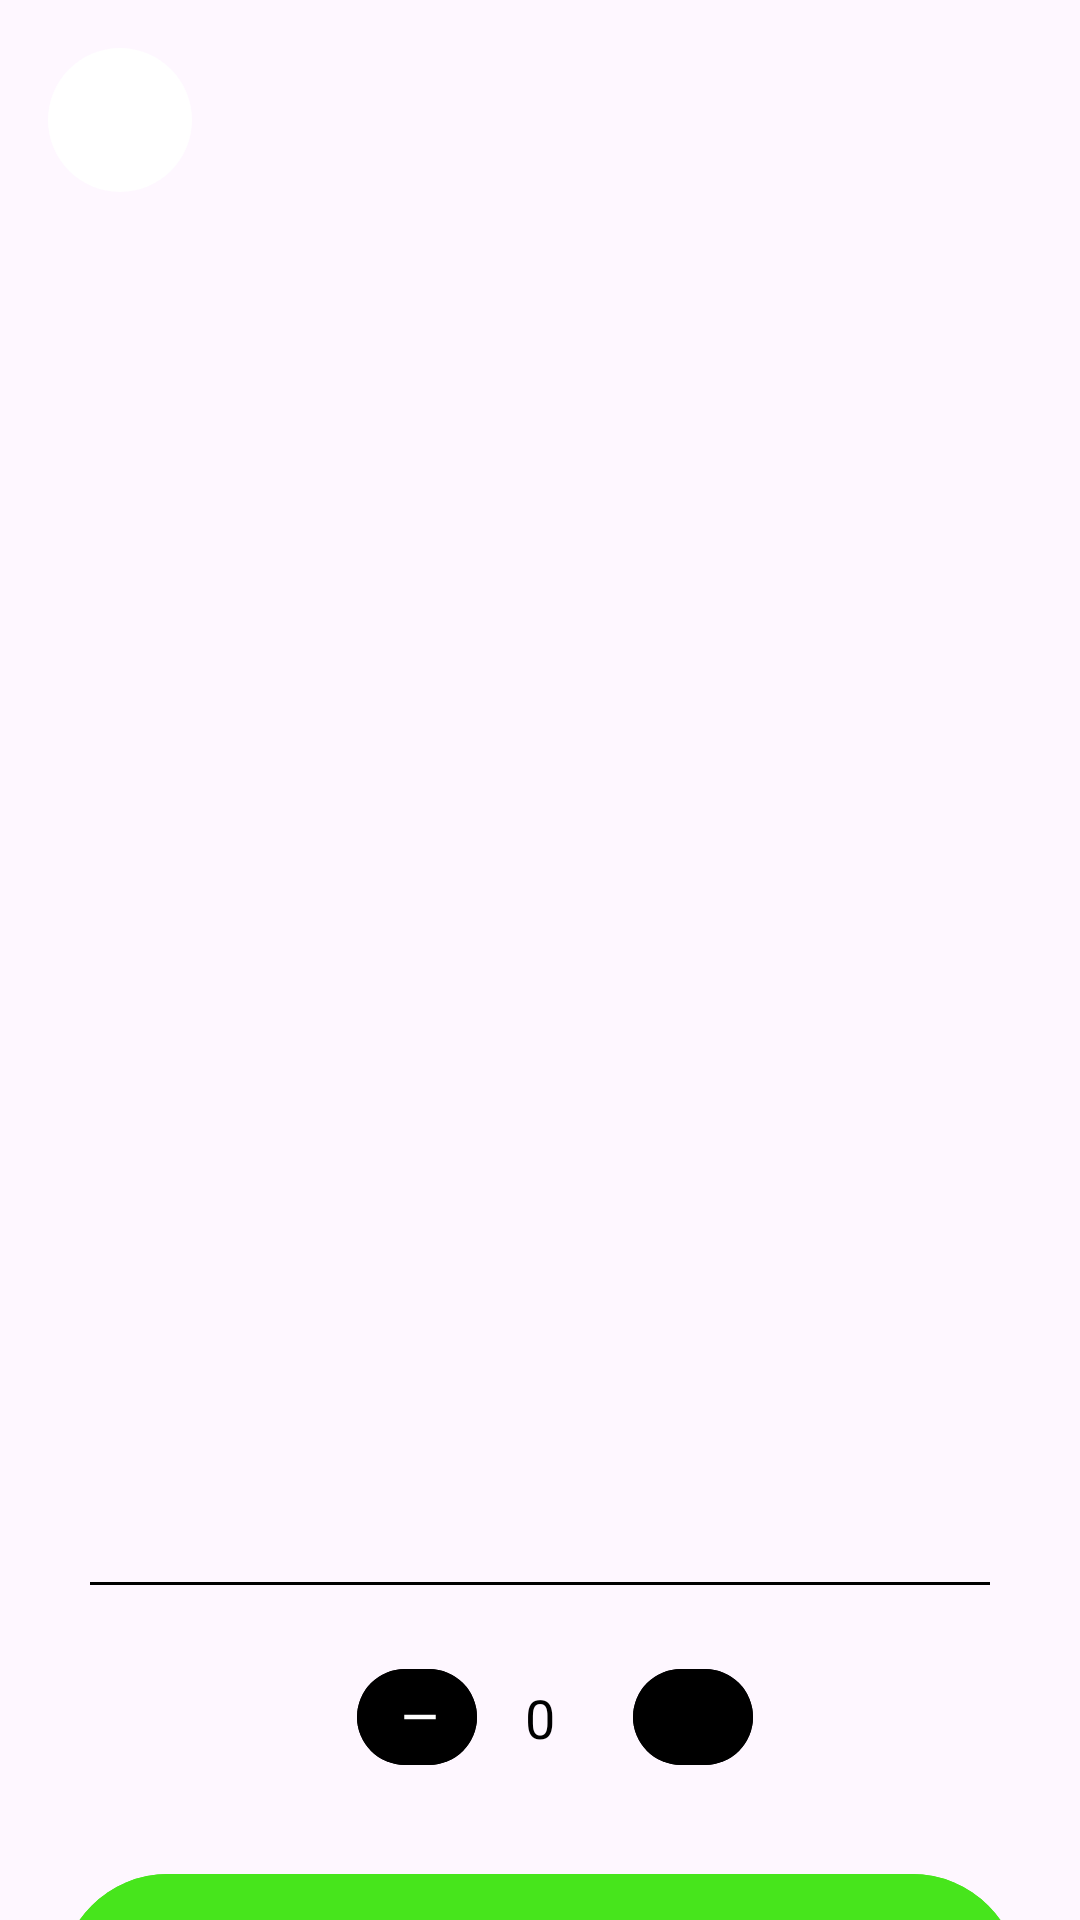

Named icons in this screenshot (1080*1920) and their bounding boxes, (x1, y1, x2, y2):
remove: (357, 1669, 477, 1765)
